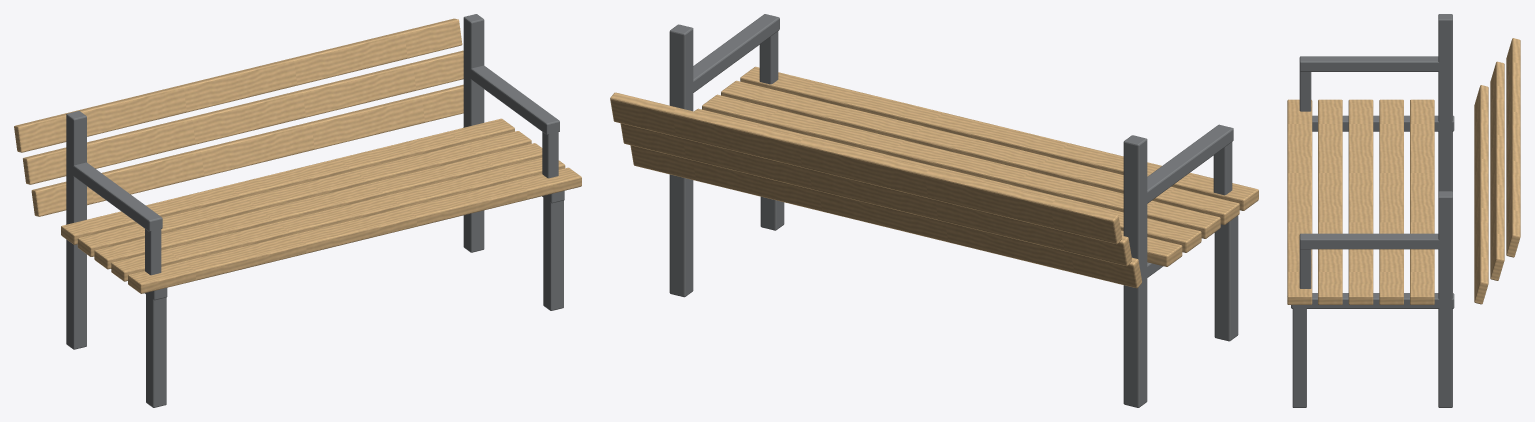
The model's file is outdoor_bench.glb.
3 views of the same model, side by side, from view 1: azimuth 30°, elevation 25°; view 2: azimuth 150°, elevation 25°; view 3: azimuth 270°, elevation 25° (orthographic). The views are drawn at different scales.
Visible parts, largest first — view 1: outdoor_bench; view 2: outdoor_bench; view 3: outdoor_bench.
Part boxes in pixels (x1,y1,x2,y2): outdoor_bench: (14,14,581,407); outdoor_bench: (610,14,1258,407); outdoor_bench: (1287,14,1520,407).
Size of what is drawn, in the model's own units: 1.6 by 0.8 by 0.7998.
Materials: 2 (1 with a texture image).
